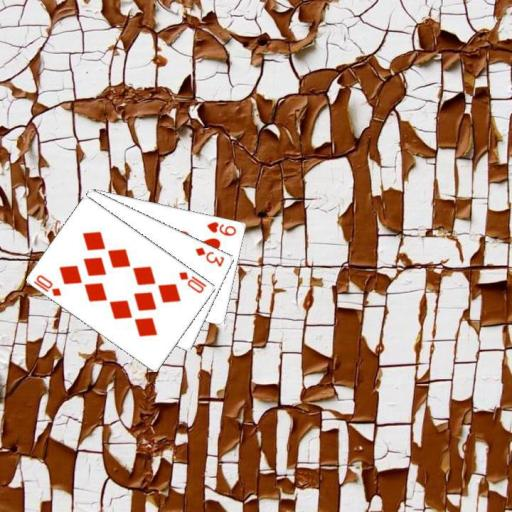10D: (176, 268, 208, 294), (31, 272, 63, 298)
3D: (192, 244, 226, 268)
9H: (204, 219, 238, 238)
